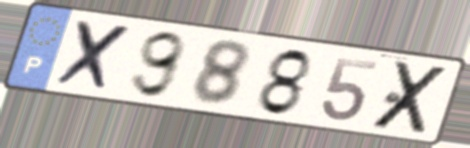5: (319, 54, 383, 123)
8: (255, 44, 316, 119), (190, 37, 252, 110)
9: (125, 30, 190, 100)
X: (367, 59, 455, 136), (52, 17, 137, 95)
